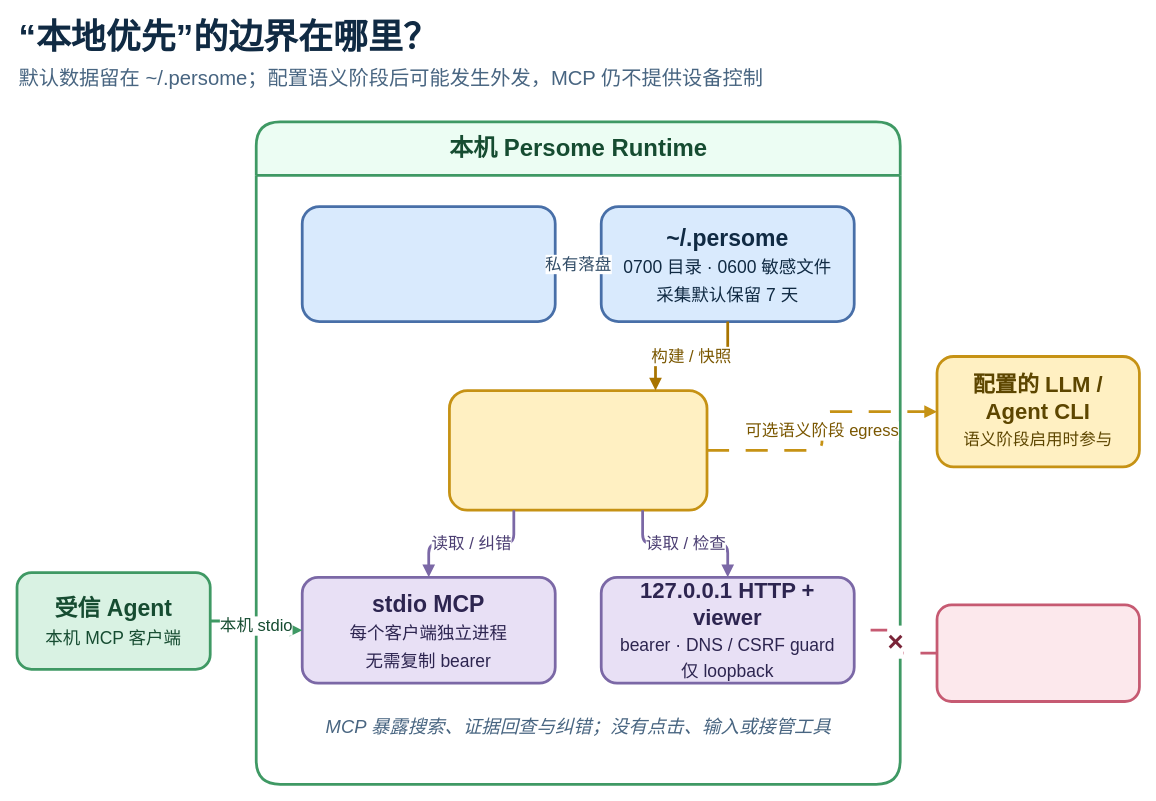
Image size: 1156x801. Some labels were removed from this diagram. The box of each missing label's shape, as (x1, y1, x2, y2) in pixels:
局域网 / 网页 非 loopback 请求: (935, 603, 1140, 702)
语义模型 Point → Line → Face → Volume → Root: (448, 389, 708, 511)
采集 + 本地 OCR 锁屏 / 暂停 / secure input gate 像素加密失败则不落盘: (300, 205, 556, 322)
